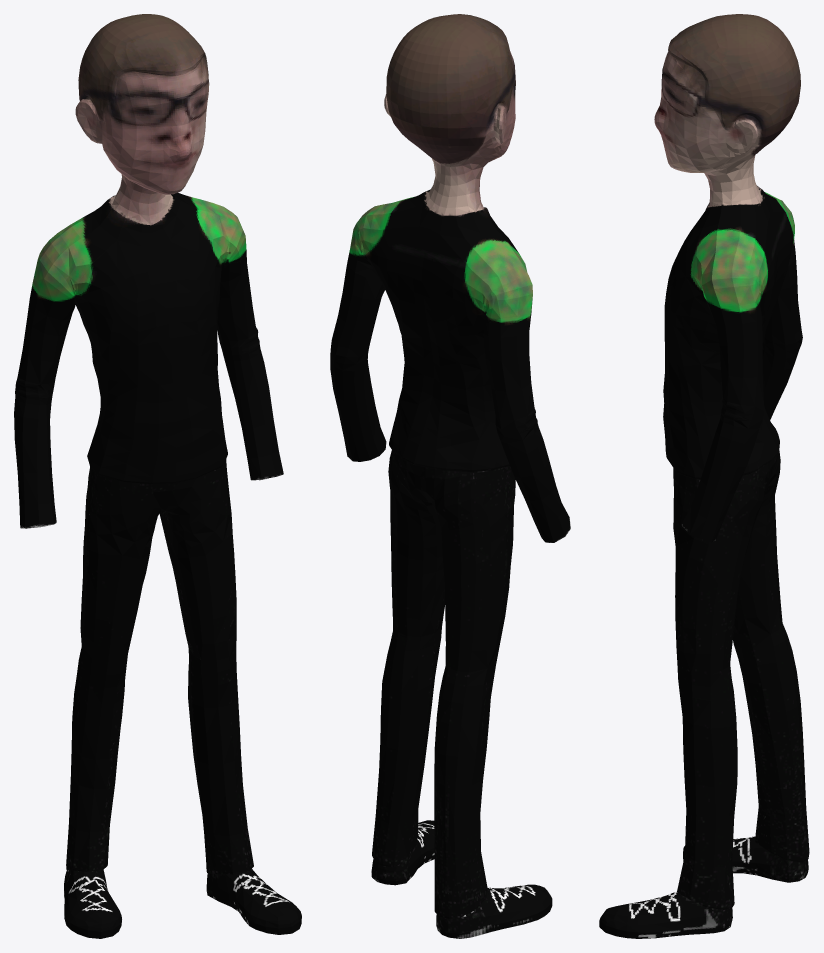
File: NoHandsJosh.fbx
3 views of the same model, side by side, from view 1: azimuth 30°, elevation 25°; view 2: azimuth 150°, elevation 25°; view 3: azimuth 270°, elevation 25° (orthographic).
Visible parts, largest first — view 1: node_id7; view 2: node_id7; view 3: node_id7.
Part boxes in pixels (box(x1,y1,x2,y2)): node_id7: box(14, 14, 301, 938); node_id7: box(330, 14, 570, 938); node_id7: box(599, 14, 809, 938).
Size of the model in its own units: 0.145 by 0.512 by 0.1121.
Materials: 2 (1 with a texture image).
